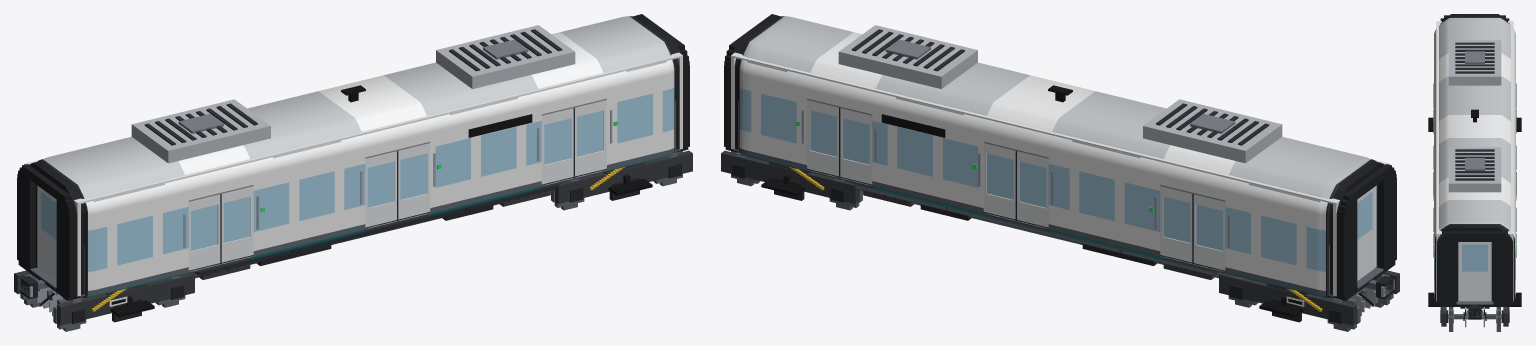
Rendered from mp14_car.obj.
3 renders of one model, left to right at view 1: azimuth 30°, elevation 25°; view 2: azimuth 150°, elevation 25°; view 3: azimuth 270°, elevation 25°, orthographic. The views are drawn at different scales.
Visible parts, largest first — view 1: SHELL, SHELL_roof, SHELL_diaphragm, BOGEY_REAR, BOGEY_FRONT, SHELL_ceiling, EXTERNAL_DOOR_16_CG_DR3_TOGGLE_TL_-0.76_X, EXTERNAL_DOOR_10_CG_DR2_TOGGLE_TL_-0.76_X, EXTERNAL_DOOR_4_CG_DR1_TOGGLE_TL_-0.76_X, EXTERNAL_DOOR_5_CG_DR1_TOGGLE_TL_0.76_X, EXTERNAL_DOOR_11_CG_DR2_TOGGLE_TL_0.76_X, EXTERNAL_DOOR_17_CG_DR3_TOGGLE_TL_0.76_X (+7 smaller); view 2: SHELL, SHELL_roof, SHELL_diaphragm, BOGEY_REAR, BOGEY_FRONT, SHELL_ceiling, EXTERNAL_DOOR_19_CG_DL3_TOGGLE_TL_-0.76_X, EXTERNAL_DOOR_13_CG_DL2_TOGGLE_TL_-0.76_X, EXTERNAL_DOOR_7_CG_DL1_TOGGLE_TL_-0.76_X, EXTERNAL_DOOR_8_CG_DL1_TOGGLE_TL_0.76_X, EXTERNAL_DOOR_14_CG_DL2_TOGGLE_TL_0.76_X, EXTERNAL_DOOR_20_CG_DL3_TOGGLE_TL_0.76_X (+7 smaller); view 3: SHELL, SHELL_roof, SHELL_diaphragm, CONNECTING_DOOR_2_CG_CF_TOGGLE_TL_0.98_Z, SHELL_ceiling, BOGEY_FRONT, BOGEY_FRONT_WHEEL_2, SHELL_handle, FRAME, SHELL_end, BOGEY_REAR, SHELL_gangway (+1 smaller).
Part boxes in pixels (bbox=[...]): SHELL: bbox=[29, 14, 684, 299]; SHELL_roof: bbox=[131, 25, 575, 163]; SHELL_diaphragm: bbox=[17, 14, 689, 300]; BOGEY_REAR: bbox=[14, 270, 194, 325]; BOGEY_FRONT: bbox=[555, 150, 692, 203]; SHELL_ceiling: bbox=[26, 53, 680, 203]; EXTERNAL_DOOR_16_CG_DR3_TOGGLE_TL_-0.76_X: bbox=[541, 108, 574, 184]; EXTERNAL_DOOR_10_CG_DR2_TOGGLE_TL_-0.76_X: bbox=[365, 151, 398, 227]; EXTERNAL_DOOR_4_CG_DR1_TOGGLE_TL_-0.76_X: bbox=[188, 194, 221, 270]; EXTERNAL_DOOR_5_CG_DR1_TOGGLE_TL_0.76_X: bbox=[221, 186, 253, 262]; EXTERNAL_DOOR_11_CG_DR2_TOGGLE_TL_0.76_X: bbox=[398, 143, 429, 219]; EXTERNAL_DOOR_17_CG_DR3_TOGGLE_TL_0.76_X: bbox=[575, 100, 606, 176]; SHELL: bbox=[729, 14, 1384, 299]; SHELL_roof: bbox=[838, 25, 1282, 163]; SHELL_diaphragm: bbox=[724, 14, 1396, 300]; BOGEY_REAR: bbox=[1219, 270, 1399, 325]; BOGEY_FRONT: bbox=[721, 150, 858, 203]; SHELL_ceiling: bbox=[733, 53, 1387, 203]; EXTERNAL_DOOR_19_CG_DL3_TOGGLE_TL_-0.76_X: bbox=[839, 108, 872, 184]; EXTERNAL_DOOR_13_CG_DL2_TOGGLE_TL_-0.76_X: bbox=[1015, 151, 1048, 227]; EXTERNAL_DOOR_7_CG_DL1_TOGGLE_TL_-0.76_X: bbox=[1192, 194, 1225, 270]; EXTERNAL_DOOR_8_CG_DL1_TOGGLE_TL_0.76_X: bbox=[1160, 186, 1192, 262]; EXTERNAL_DOOR_14_CG_DL2_TOGGLE_TL_0.76_X: bbox=[984, 143, 1015, 219]; EXTERNAL_DOOR_20_CG_DL3_TOGGLE_TL_0.76_X: bbox=[807, 100, 838, 176]; SHELL: bbox=[1434, 14, 1515, 302]; SHELL_roof: bbox=[1448, 40, 1501, 192]; SHELL_diaphragm: bbox=[1437, 15, 1512, 306]; CONNECTING_DOOR_2_CG_CF_TOGGLE_TL_0.98_Z: bbox=[1458, 242, 1491, 301]; SHELL_ceiling: bbox=[1436, 22, 1513, 232]; BOGEY_FRONT: bbox=[1428, 292, 1521, 326]; BOGEY_FRONT_WHEEL_2: bbox=[1448, 307, 1501, 331]; SHELL_handle: bbox=[1433, 83, 1516, 257]; FRAME: bbox=[1463, 305, 1486, 320]; SHELL_end: bbox=[1436, 21, 1513, 301]; BOGEY_REAR: bbox=[1428, 117, 1521, 131]; SHELL_gangway: bbox=[1456, 300, 1493, 304].
Bounding box in the file's own units: 16.64 × 3.84 × 2.84.
1 material, 1 textured.
